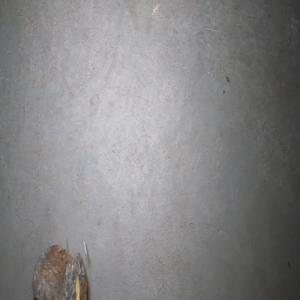Rock: (32, 237, 88, 300)
